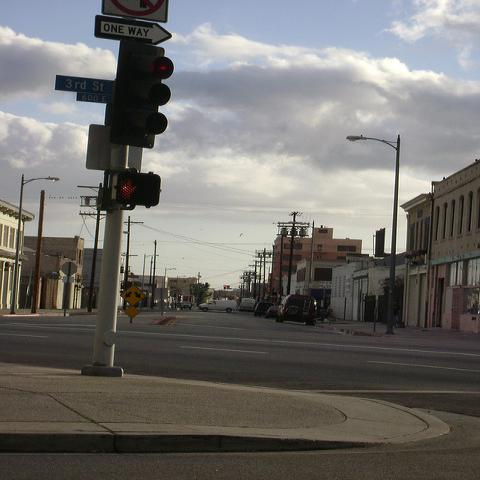car: (253, 302, 276, 316), (174, 299, 194, 311), (240, 298, 256, 310), (265, 306, 279, 318)
truck: (274, 294, 318, 325), (198, 299, 237, 312)
